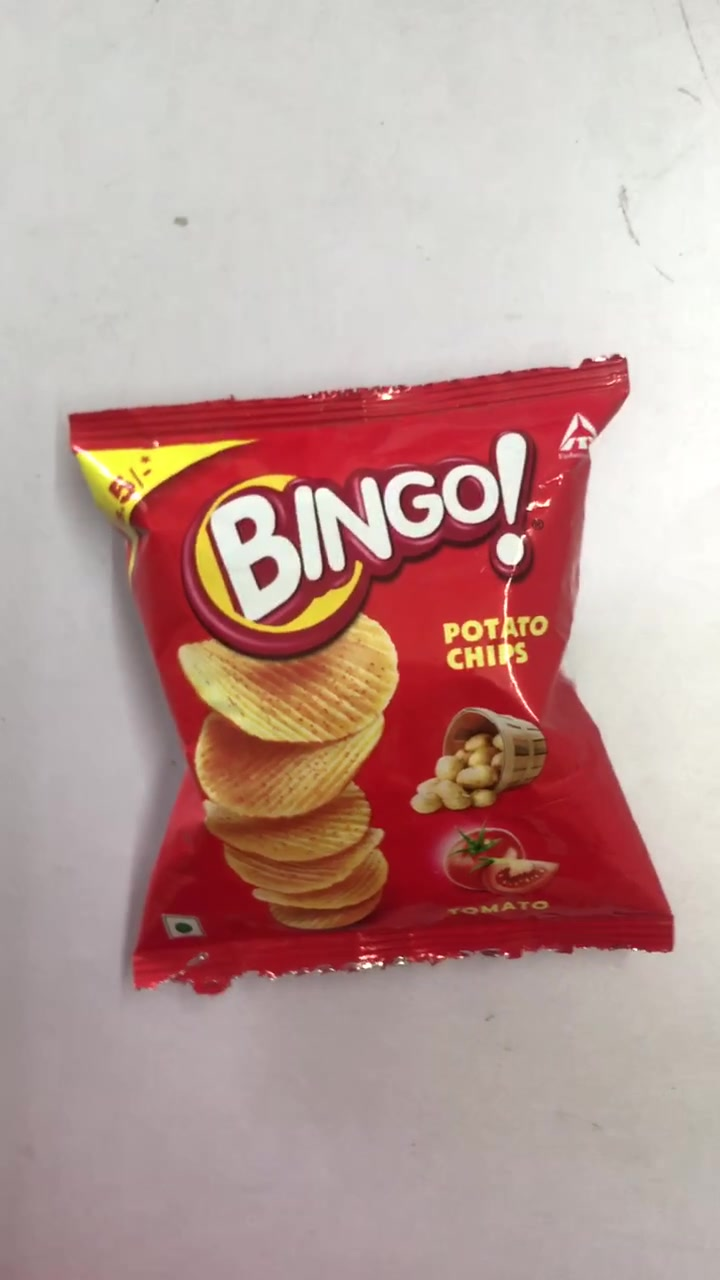Bingo: (77, 412, 673, 963)
